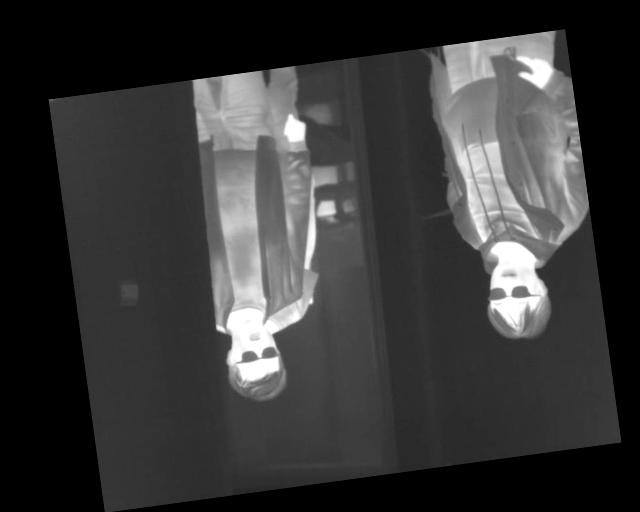face: (480, 253, 556, 346), (220, 315, 286, 402)
